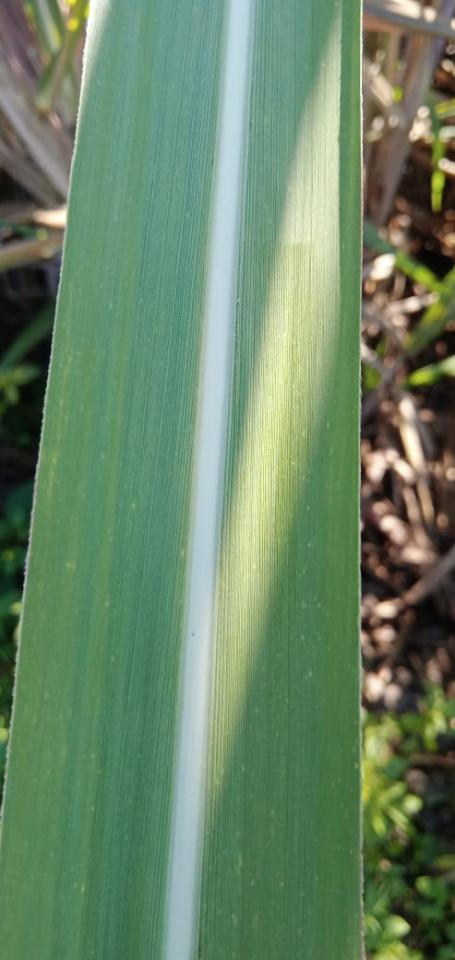Healthy: (1, 0, 360, 959)
